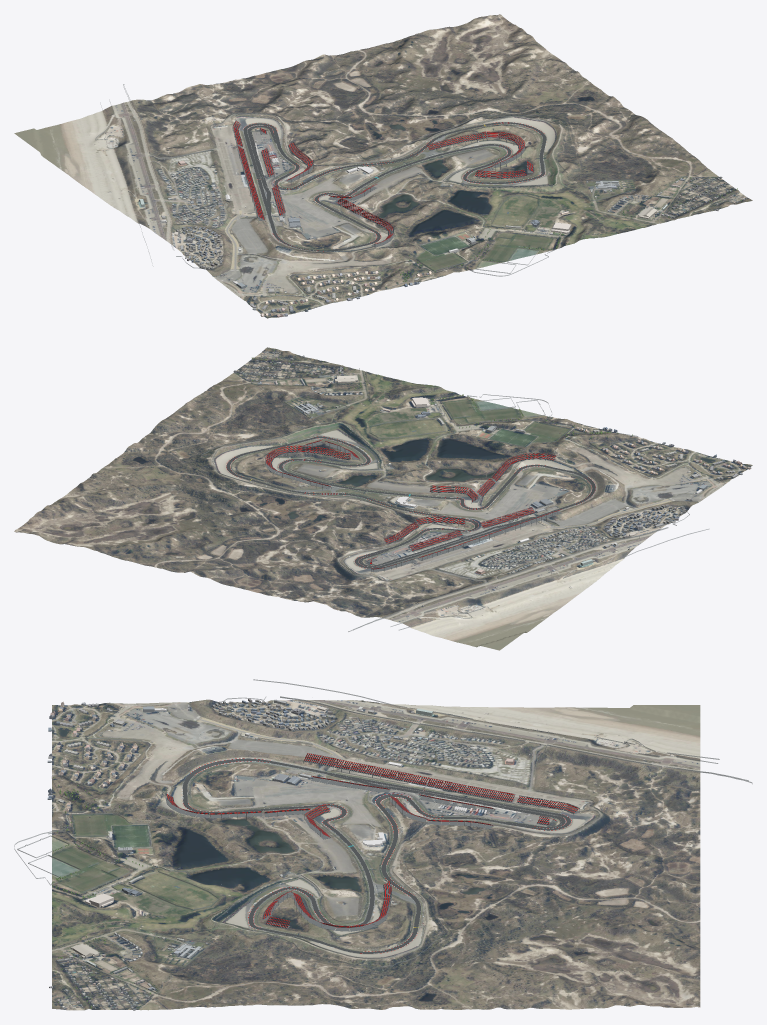
The model's file is zandvoort.glb.
3 renders of one model, top to bottom at view 1: azimuth 30°, elevation 25°; view 2: azimuth 150°, elevation 25°; view 3: azimuth 270°, elevation 25°, orthographic. The views are drawn at different scales.
Visible parts, largest first — view 1: AHN4_Terrain_RealScale, 3DBAG_LoD22_Buildings, DutchGP_2026_Grandstands, BGT_Safety_Fences_And_Walls, FIA_Circuit_Centreline_10m; view 2: AHN4_Terrain_RealScale, DutchGP_2026_Grandstands, 3DBAG_LoD22_Buildings, BGT_Safety_Fences_And_Walls, FIA_Circuit_Centreline_10m, Real_Red_White_Curbs; view 3: AHN4_Terrain_RealScale, DutchGP_2026_Grandstands, 3DBAG_LoD22_Buildings, BGT_Safety_Fences_And_Walls, FIA_Circuit_Centreline_10m, FIA_Pit_Lane, Real_Red_White_Curbs.
Boxes of the visible parts, bbox=[...] form: AHN4_Terrain_RealScale: bbox=[14, 14, 752, 318]; 3DBAG_LoD22_Buildings: bbox=[116, 120, 746, 317]; DutchGP_2026_Grandstands: bbox=[232, 120, 533, 247]; BGT_Safety_Fences_And_Walls: bbox=[95, 84, 687, 301]; FIA_Circuit_Centreline_10m: bbox=[243, 122, 546, 251]; AHN4_Terrain_RealScale: bbox=[14, 347, 752, 650]; DutchGP_2026_Grandstands: bbox=[265, 439, 561, 571]; 3DBAG_LoD22_Buildings: bbox=[233, 351, 751, 609]; BGT_Safety_Fences_And_Walls: bbox=[155, 380, 728, 631]; FIA_Circuit_Centreline_10m: bbox=[226, 436, 595, 568]; Real_Red_White_Curbs: bbox=[226, 436, 595, 568]; AHN4_Terrain_RealScale: bbox=[52, 699, 700, 1010]; DutchGP_2026_Grandstands: bbox=[165, 753, 579, 931]; 3DBAG_LoD22_Buildings: bbox=[47, 698, 645, 1010]; BGT_Safety_Fences_And_Walls: bbox=[14, 679, 752, 993]; FIA_Circuit_Centreline_10m: bbox=[182, 758, 570, 953]; FIA_Pit_Lane: bbox=[327, 773, 565, 828]; Real_Red_White_Curbs: bbox=[182, 758, 571, 953].
Bounding box in the file's own units: 1666 × 29.75 × 1596.
Materials: 24 (1 with a texture image).
